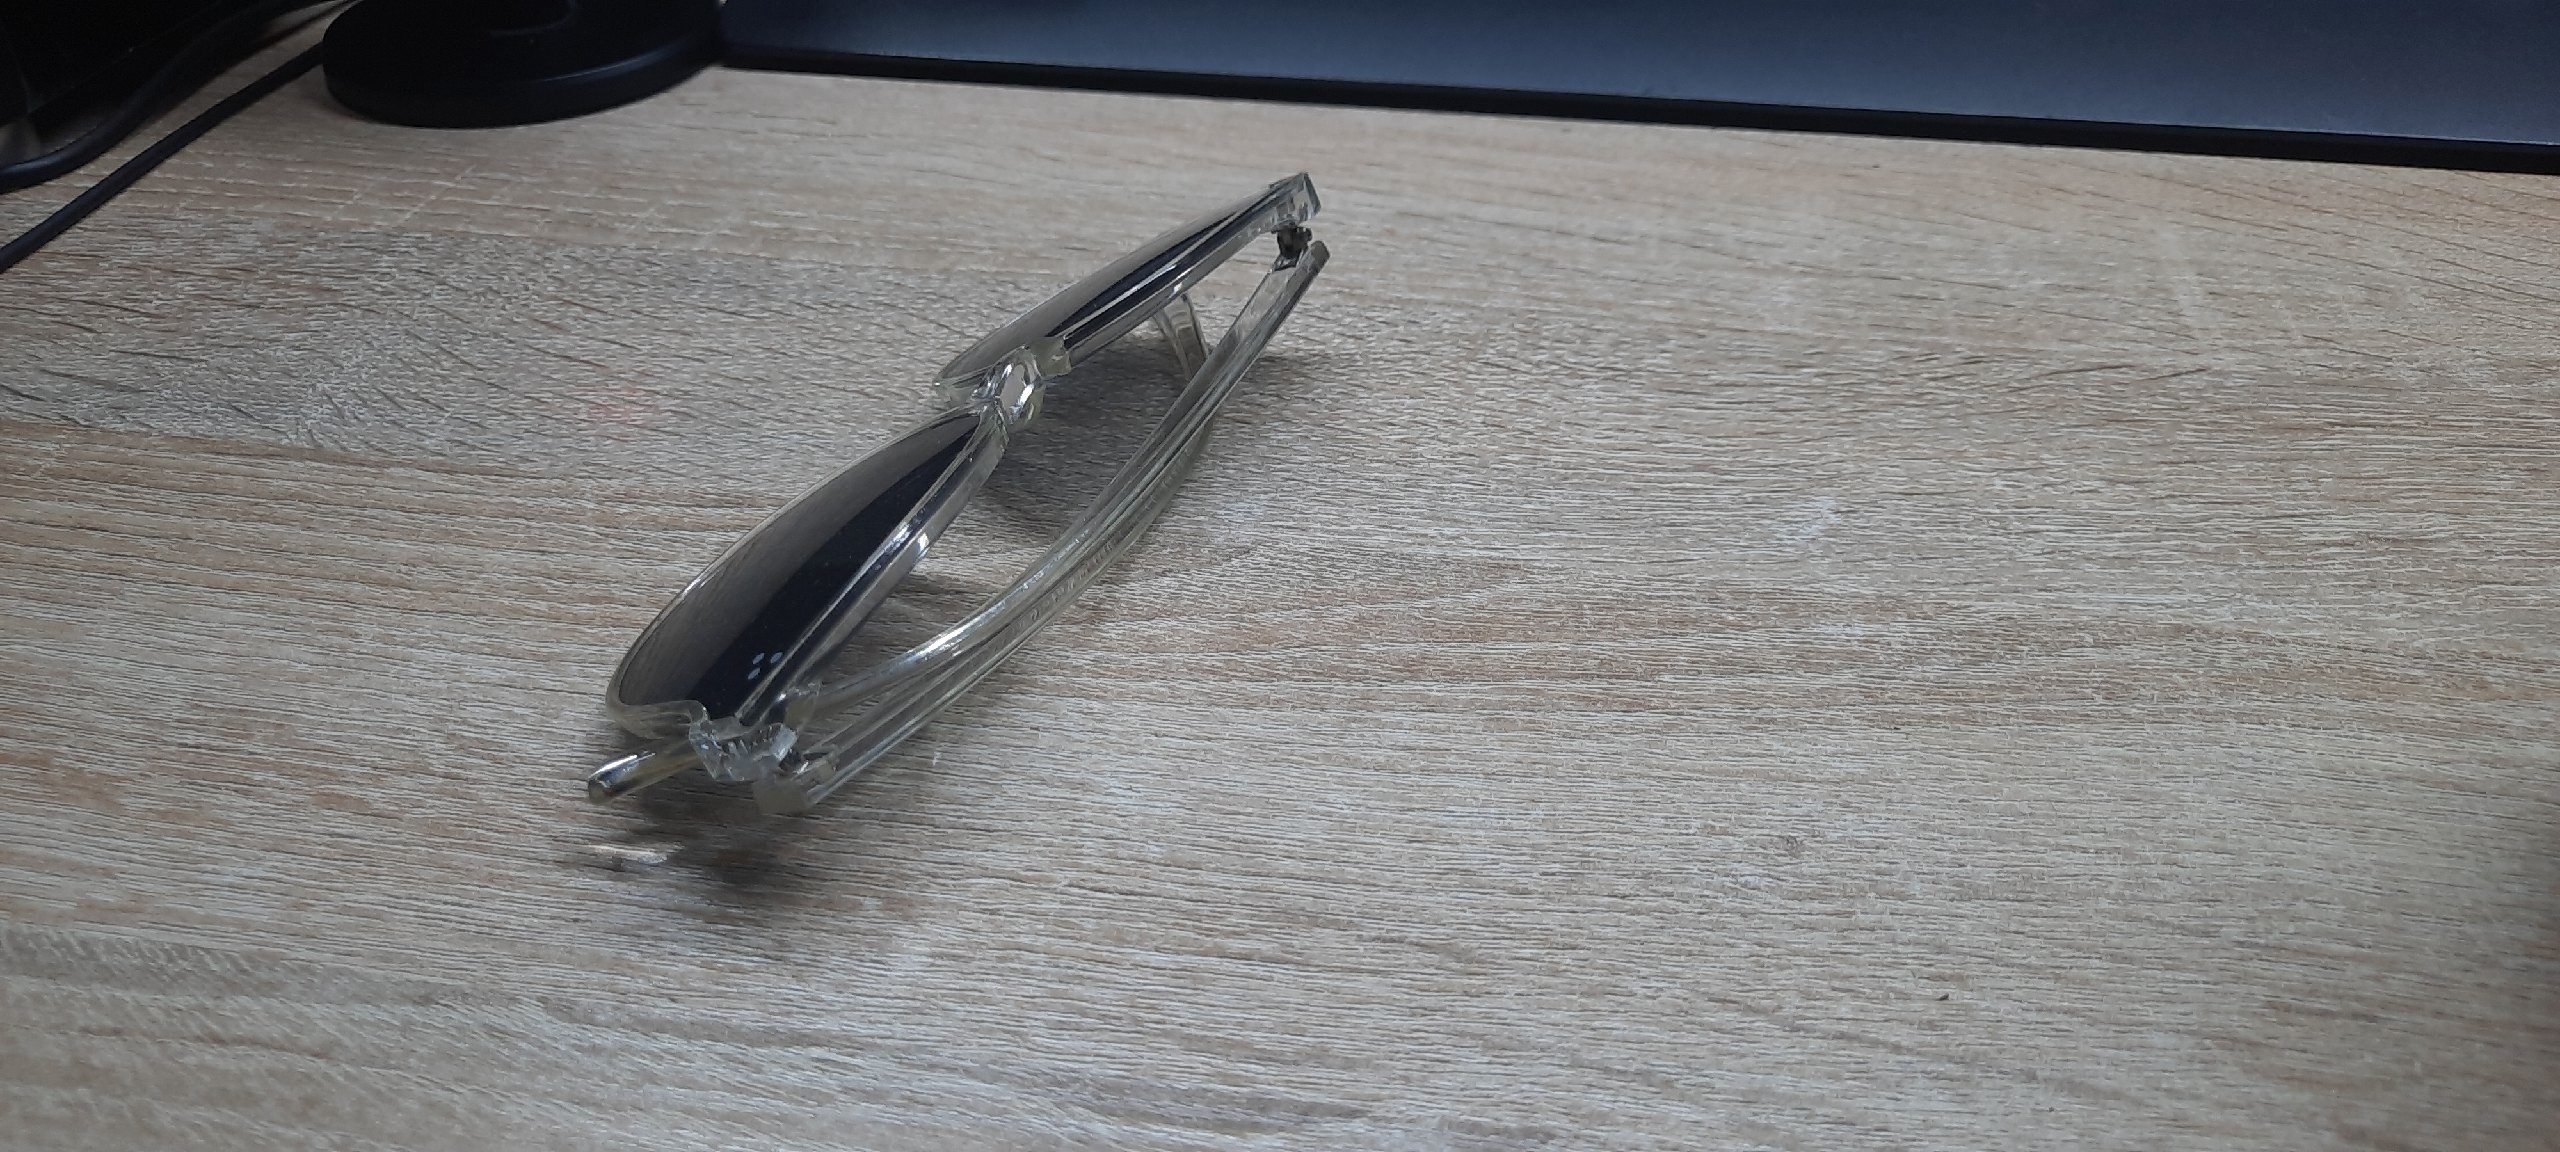glasses: (589, 176, 1327, 813)
